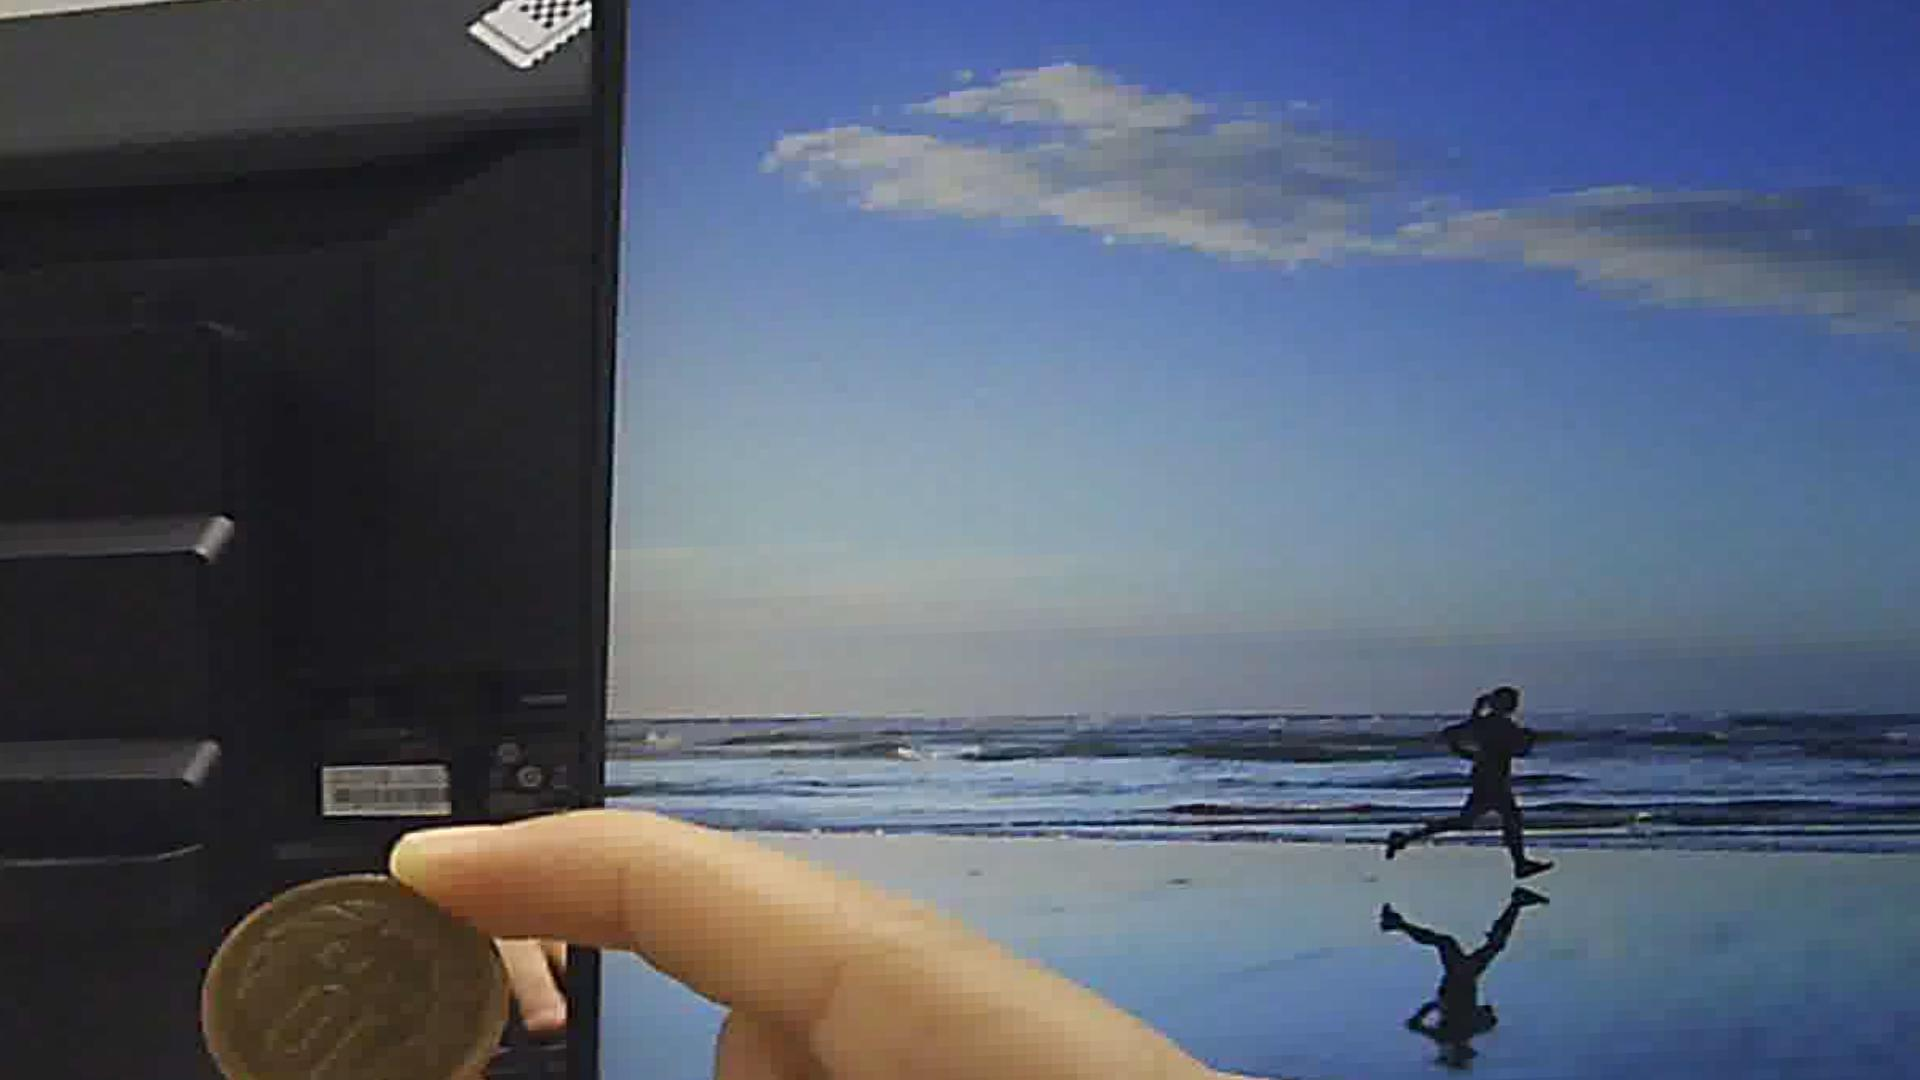10 Yen: (185, 876, 502, 1079)
